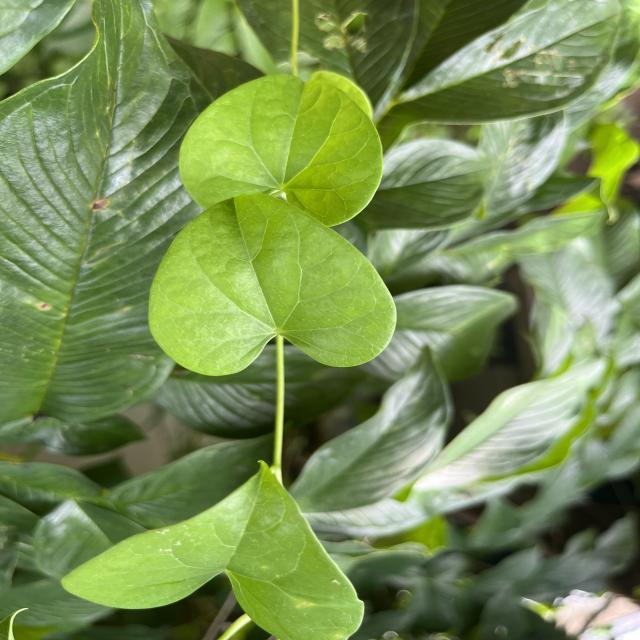Tinospora cordifolia: (55, 452, 368, 640), (143, 190, 403, 380), (175, 70, 388, 232)
